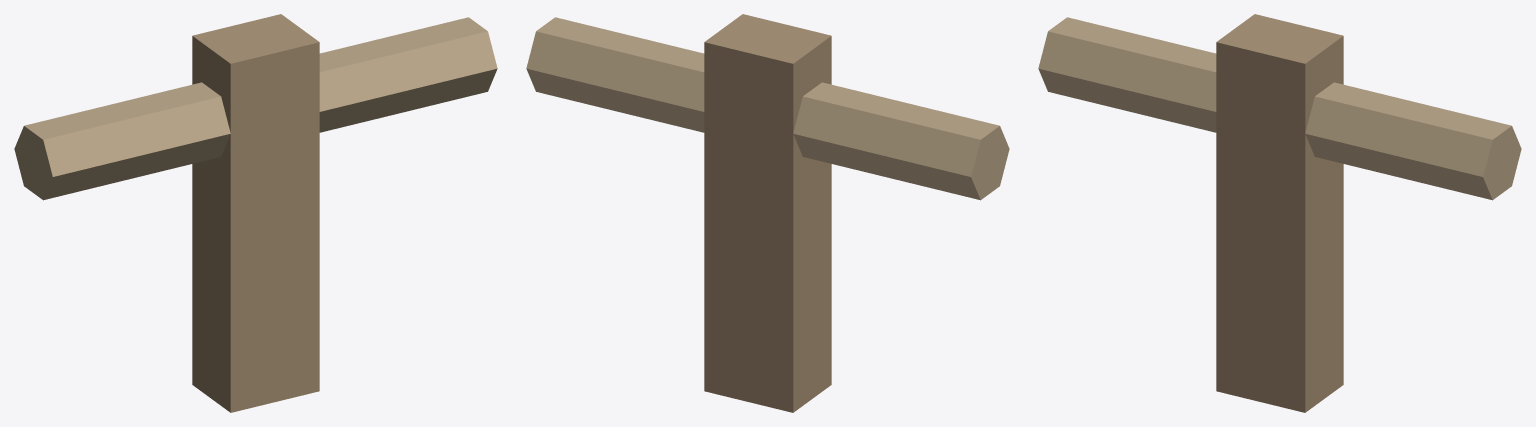
File: handbow.glb
3 views of the same model, side by side, from view 1: azimuth 30°, elevation 25°; view 2: azimuth 150°, elevation 25°; view 3: azimuth 330°, elevation 25° (orthographic).
Parts seen in each view (by area): view 1: handbow; view 2: handbow; view 3: handbow.
Part boxes in pixels (left/top/right/bottom): handbow: left=14, top=14, right=497, bottom=412; handbow: left=526, top=14, right=1009, bottom=412; handbow: left=1038, top=14, right=1521, bottom=412.
Size of the model in its own units: 0.4 by 0.3 by 0.06.
